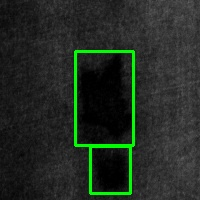patches: (75, 51, 133, 145), (90, 146, 130, 193)
